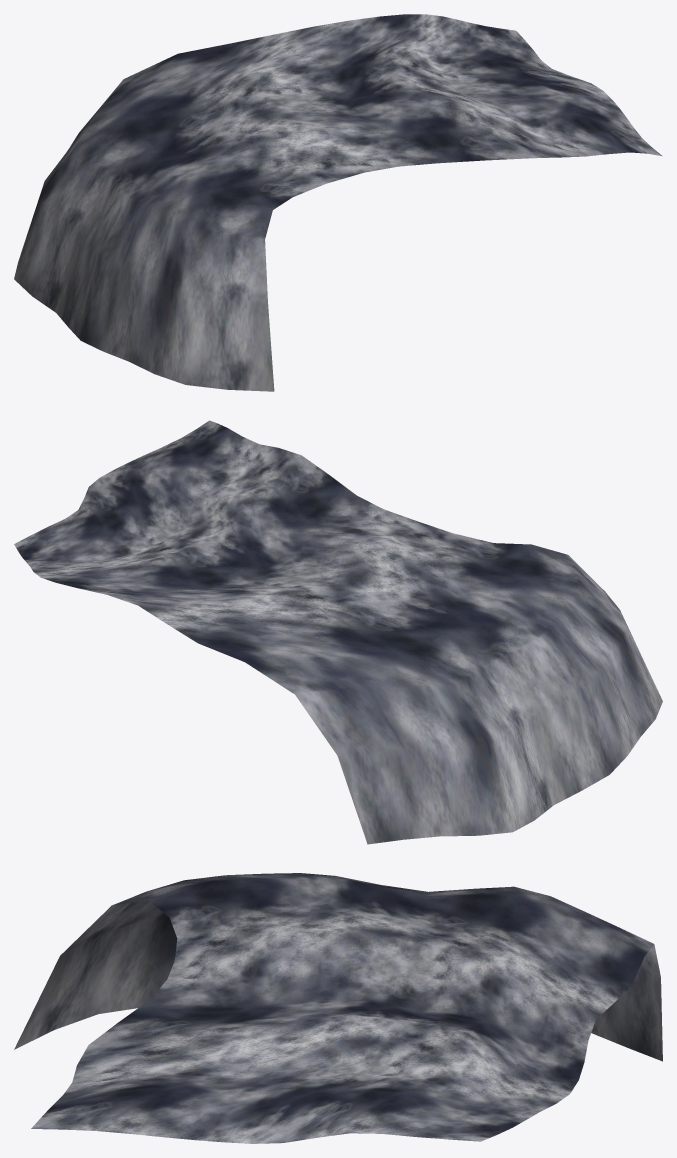
Rendered from SWORDLIGHT20_WATER02.fbx.
3 views of the same model, one above another, from view 1: azimuth 30°, elevation 25°; view 2: azimuth 150°, elevation 25°; view 3: azimuth 270°, elevation 25° (orthographic). The views are drawn at different scales.
Visible parts, largest first — view 1: SWORDLIGHT20_WATER02; view 2: SWORDLIGHT20_WATER02; view 3: SWORDLIGHT20_WATER02.
Boxes of the visible parts, <box> form: SWORDLIGHT20_WATER02: <box>14,14,662,391</box>; SWORDLIGHT20_WATER02: <box>14,420,662,844</box>; SWORDLIGHT20_WATER02: <box>14,873,662,1143</box>.
Bounding box in the file's own units: 209000 × 65506 × 172088.
1 material, 1 textured.
